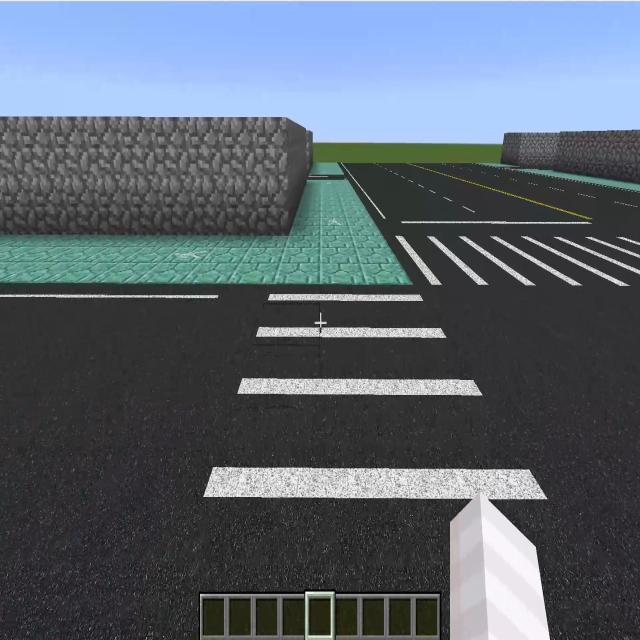crosswalk: (174, 283, 590, 631), (392, 223, 640, 295)
road: (3, 286, 264, 630), (442, 298, 638, 626), (338, 161, 634, 226)
sidewalk: (0, 179, 412, 285), (509, 168, 640, 191), (311, 161, 343, 175), (476, 163, 506, 168)
